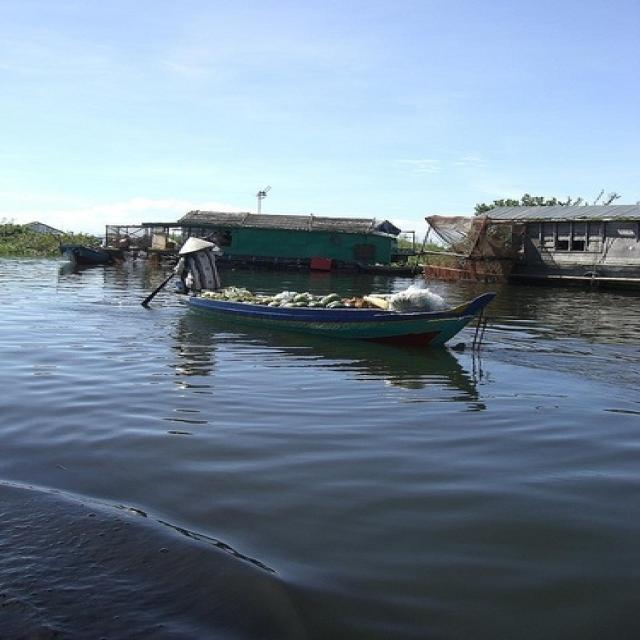Hyacinth: (3, 237, 56, 260)
boat: (146, 268, 492, 354), (57, 241, 119, 271)
